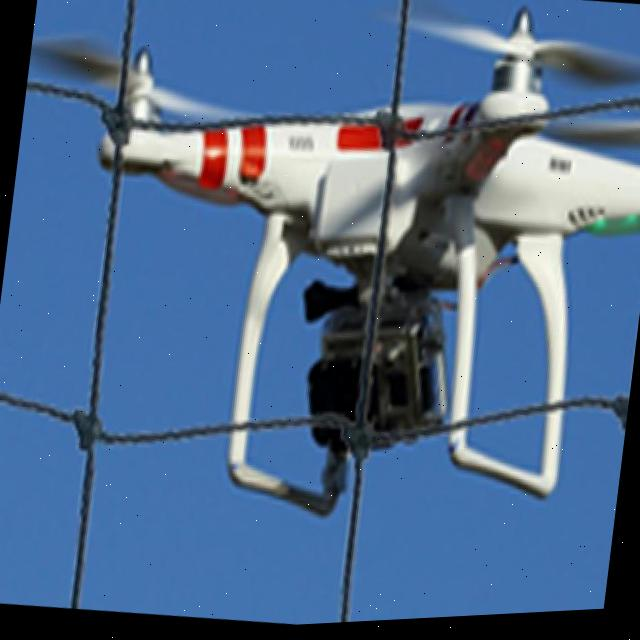drone: (13, 0, 640, 321)
